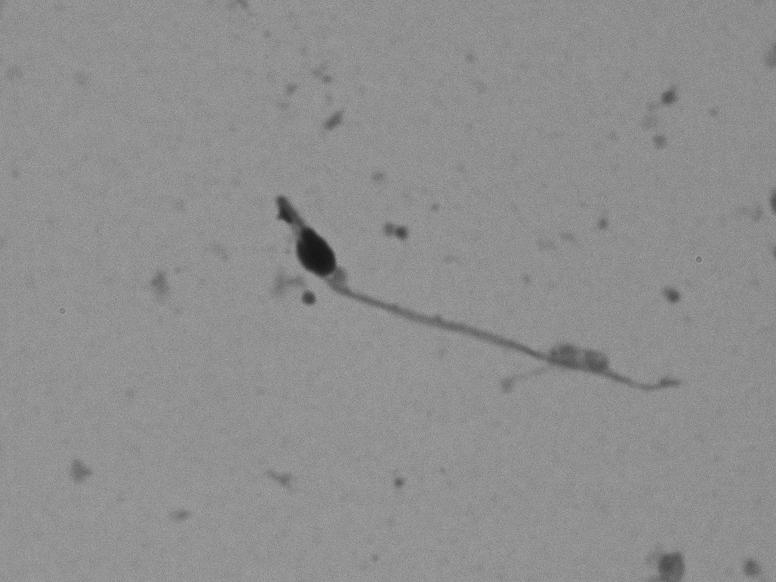Abnormal: (235, 188, 713, 419)
